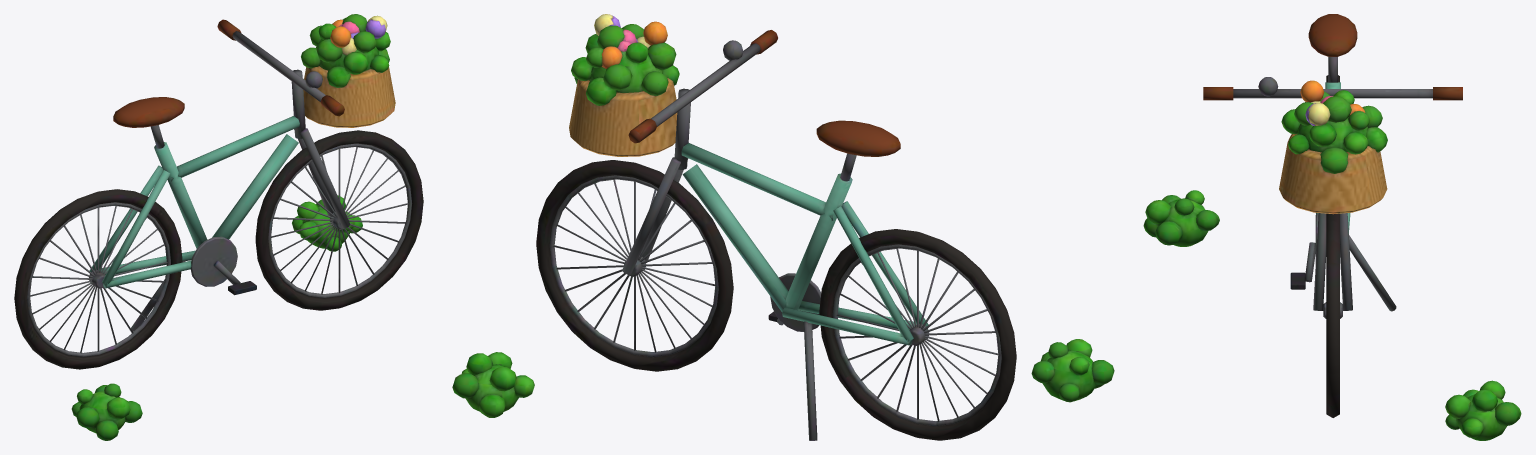
Rendered from flower_bicycle.glb.
The picture shows the model from 3 angles, left to right: view 1: azimuth 30°, elevation 25°; view 2: azimuth 150°, elevation 25°; view 3: azimuth 270°, elevation 25°; orthographic projection. The views are drawn at different scales.
Visible parts, largest first — view 1: flower_bicycle; view 2: flower_bicycle; view 3: flower_bicycle.
Boxes of the visible parts, left/top/right/bottom form: flower_bicycle: left=14, top=14, right=423, bottom=440; flower_bicycle: left=452, top=14, right=1114, bottom=440; flower_bicycle: left=1143, top=14, right=1521, bottom=440.
Size of the model in its own units: 1.08 by 0.7136 by 0.7578.
1 material, 1 textured.
